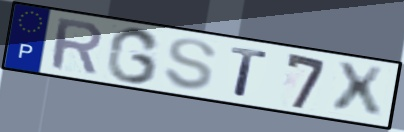7: (286, 50, 327, 111)
G: (103, 26, 163, 86)
R: (49, 16, 104, 77)
S: (162, 37, 219, 92)
T: (228, 44, 269, 99)
X: (331, 60, 388, 120)
